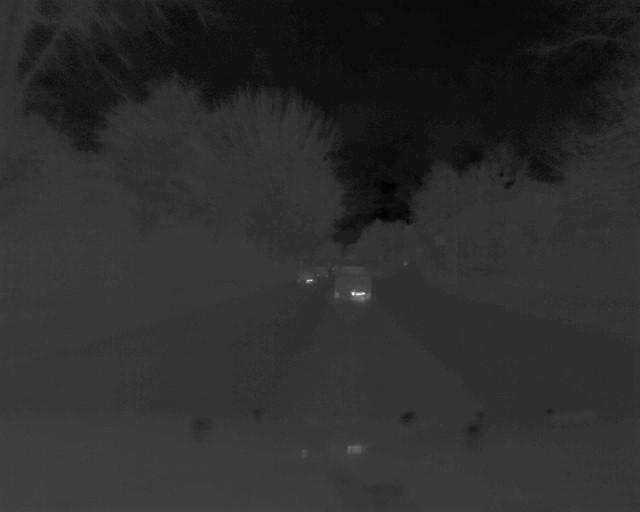car: (332, 263, 375, 307), (298, 268, 321, 288)
